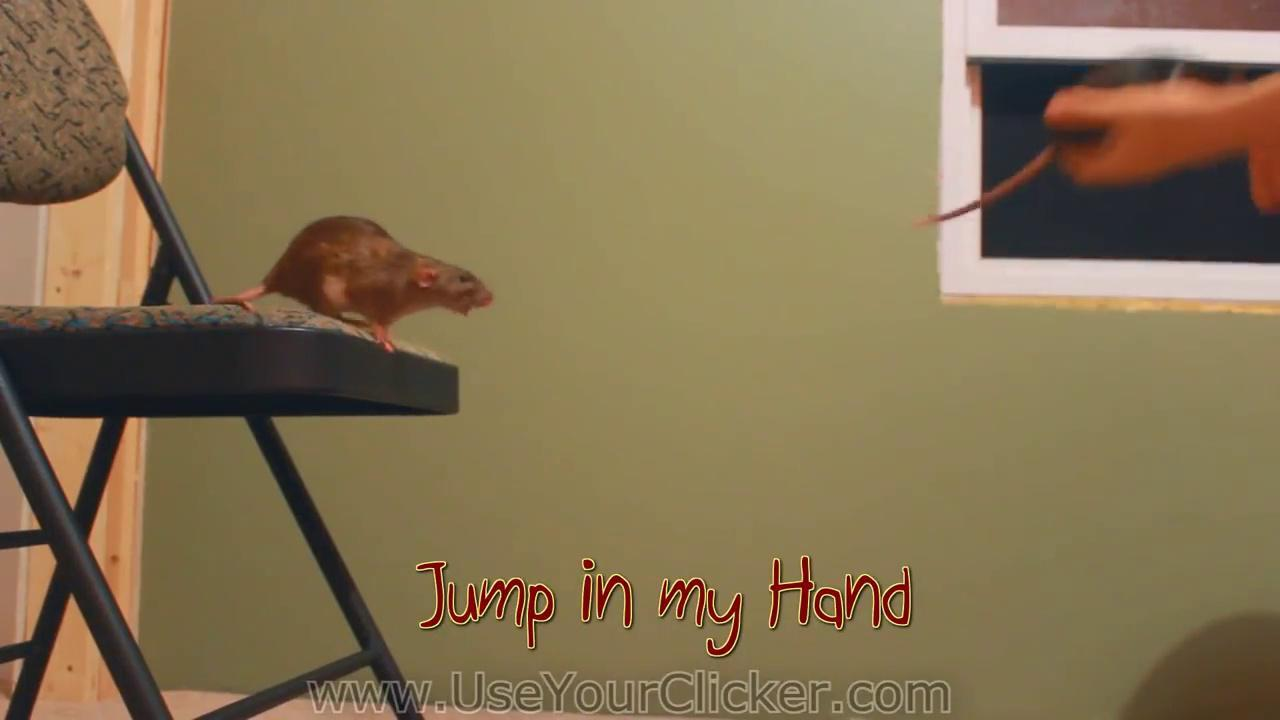rat: (212, 217, 494, 354)
